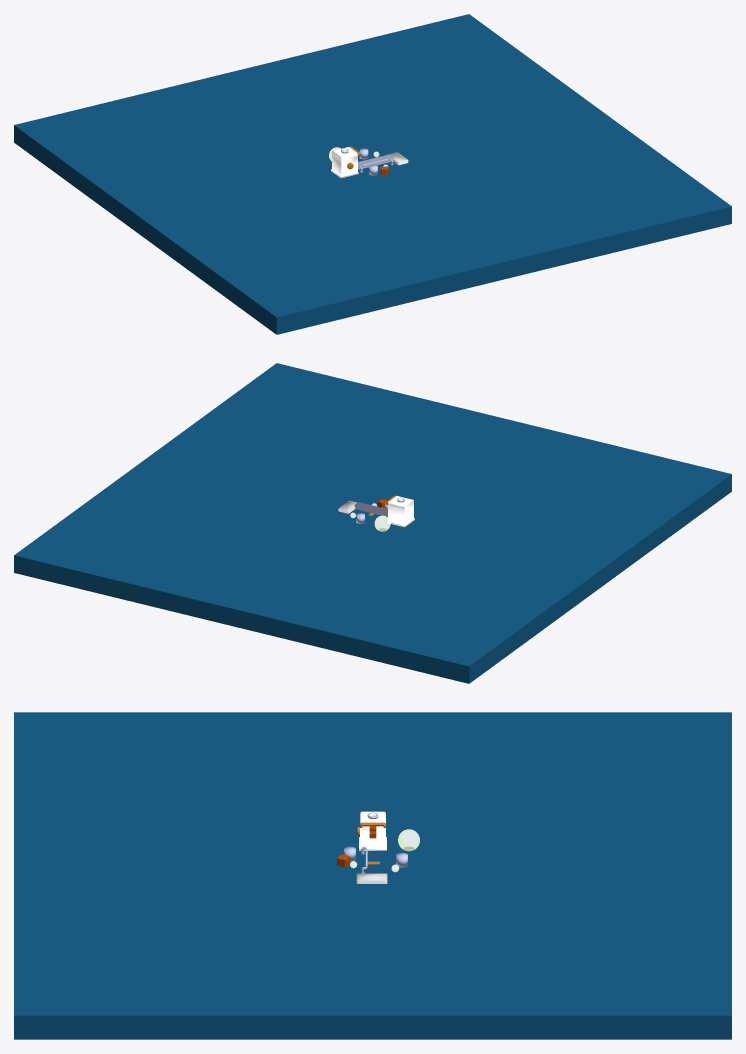
File: Conveyor Belt2.glb
The picture shows the model from 3 angles, top to bottom: view 1: azimuth 30°, elevation 25°; view 2: azimuth 150°, elevation 25°; view 3: azimuth 270°, elevation 25°; orthographic projection. The views are drawn at different scales.
Parts seen in each view (by area): view 1: Background, Machine_Body; view 2: Background, Machine_Body; view 3: Background, Machine_Body.
Part boxes in pixels (x1,y1,x2,y2): Background: [14, 14, 731, 334]; Machine_Body: [331, 147, 358, 178]; Background: [14, 363, 731, 683]; Machine_Body: [388, 496, 414, 527]; Background: [14, 712, 731, 1039]; Machine_Body: [359, 811, 386, 850].
Bounding box in the file's own units: 55.59 × 4.78 × 55.59.
